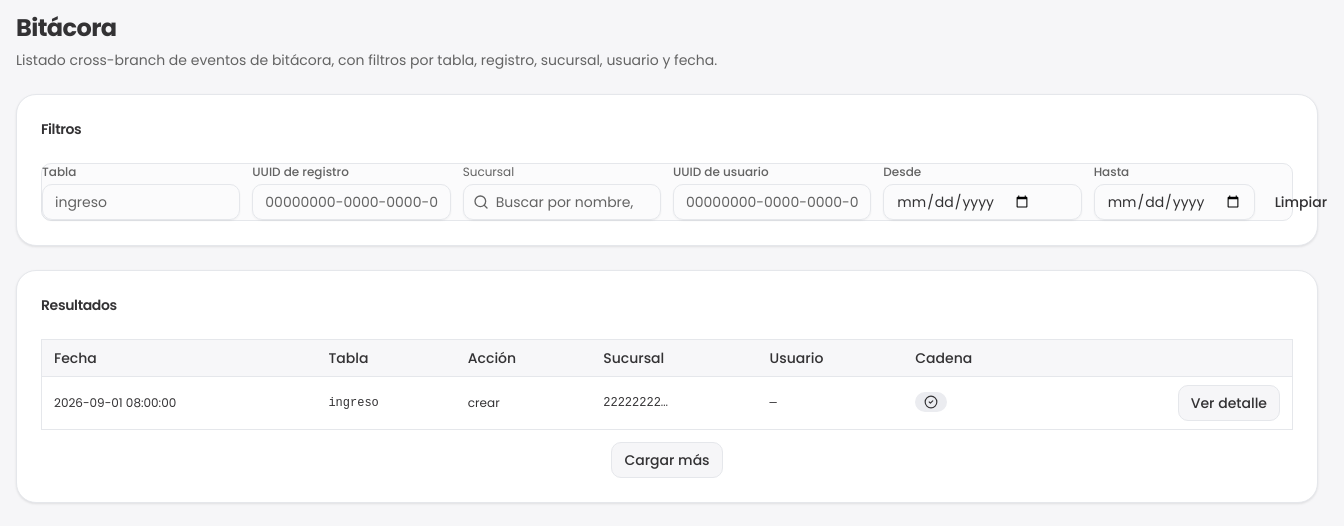
Scenario: LogTransaccional › T3: "Cargar más" appends the next page using the returned cursor
Expected: the row with test id "log-transaccional-row-a" is shown, x1=42 y1=376 x2=1292 y2=430
Step 1. Click the button with test id "log-transaccional-load-more" → (667, 460), box x1=611 y1=442 x2=723 y2=478
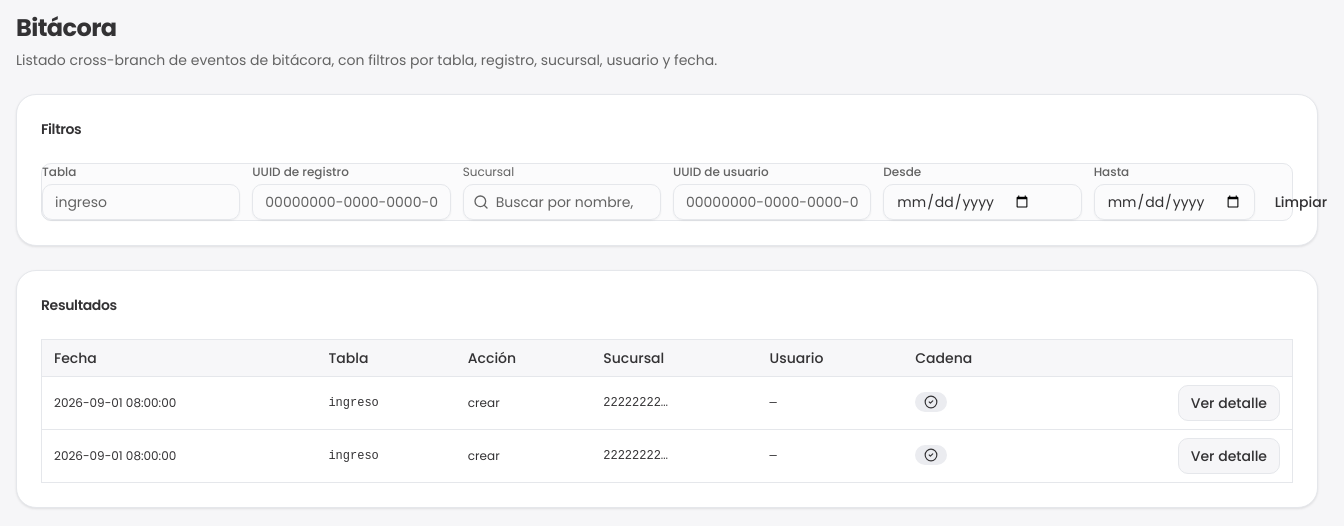
Now the row with test id "log-transaccional-row-b" is shown, box x1=42 y1=430 x2=1292 y2=482
